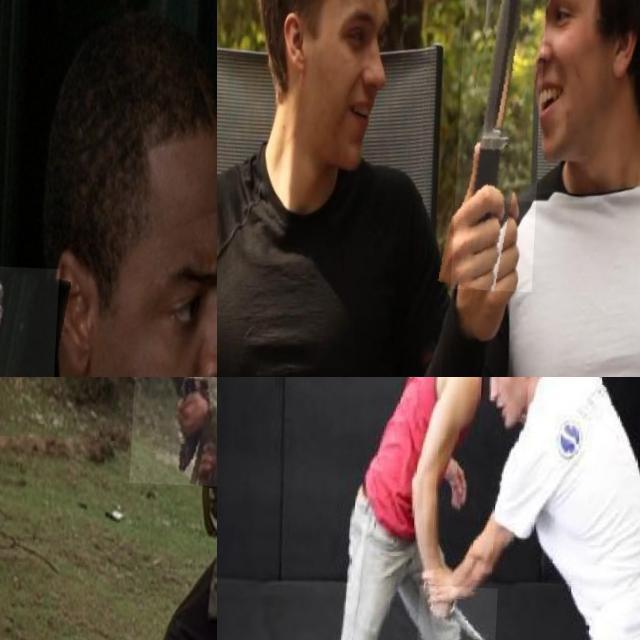-: (455, 0, 551, 288), (421, 582, 501, 640)
gun-knife-thesis - v11 Yolov5 augmented: (133, 377, 217, 484)
